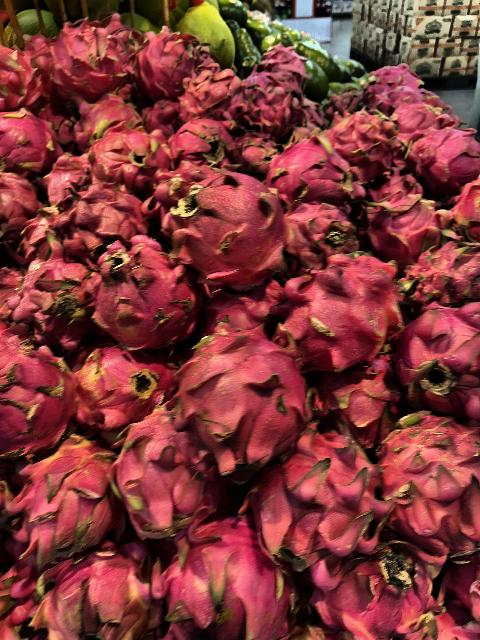buah-naga-belum-matang: (42, 544, 154, 640)
buah-naga-matang: (172, 304, 312, 478), (153, 512, 293, 640), (260, 424, 379, 562), (266, 246, 400, 364), (161, 164, 289, 286), (376, 404, 480, 550), (110, 414, 218, 536), (311, 534, 432, 640), (10, 431, 116, 541), (90, 240, 200, 344), (394, 288, 480, 412), (68, 337, 172, 425), (0, 332, 72, 440), (1, 252, 92, 336), (39, 180, 145, 250), (271, 134, 355, 206), (49, 20, 135, 89), (359, 183, 442, 250), (86, 126, 167, 192), (224, 70, 302, 138), (396, 238, 480, 300), (279, 194, 353, 264), (402, 124, 480, 190), (326, 106, 400, 170), (138, 28, 198, 90), (168, 119, 236, 173), (2, 42, 50, 110), (74, 94, 144, 140), (3, 112, 57, 170), (0, 168, 34, 234), (183, 69, 233, 111)
